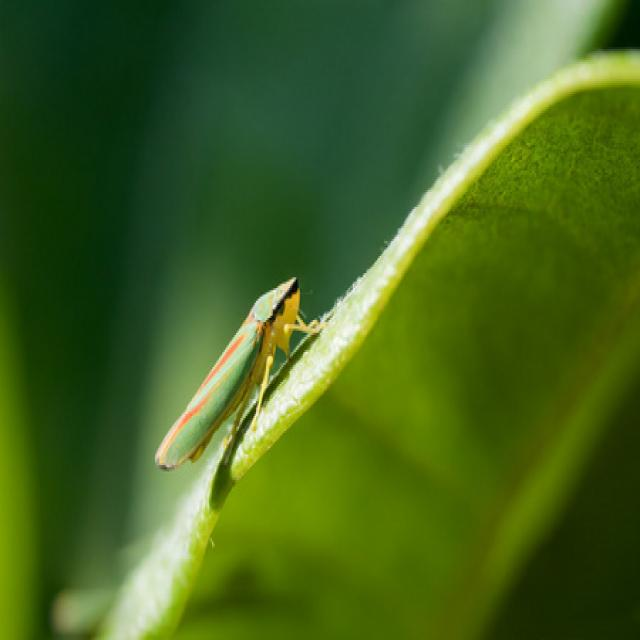Yechan: (151, 271, 310, 482)
